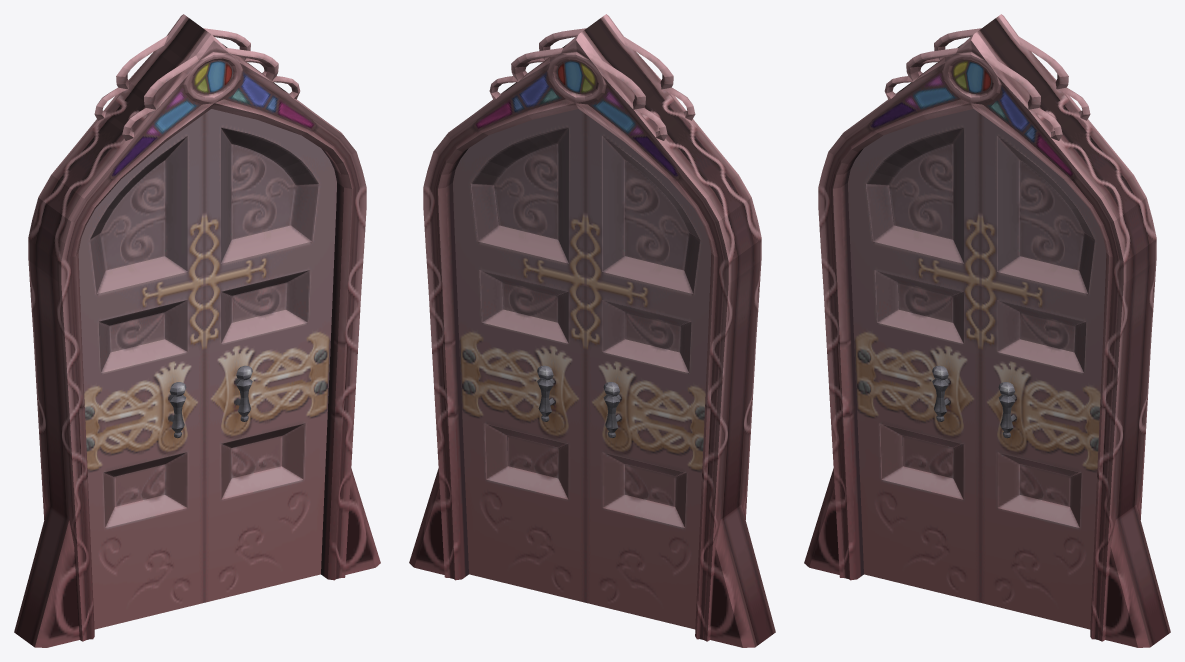
File: stationofawakeningdoor.obj
3 renders of one model, left to right at view 1: azimuth 30°, elevation 25°; view 2: azimuth 150°, elevation 25°; view 3: azimuth 330°, elevation 25°, orthographic.
Visible parts, largest first — view 1: mesh; view 2: mesh; view 3: mesh.
Boxes of the visible parts, <box> form: mesh: <box>14,14,380,647</box>; mesh: <box>409,14,775,647</box>; mesh: <box>804,14,1170,647</box>.
Bounding box in the file's own units: 2.1 × 3.32 × 0.359.
